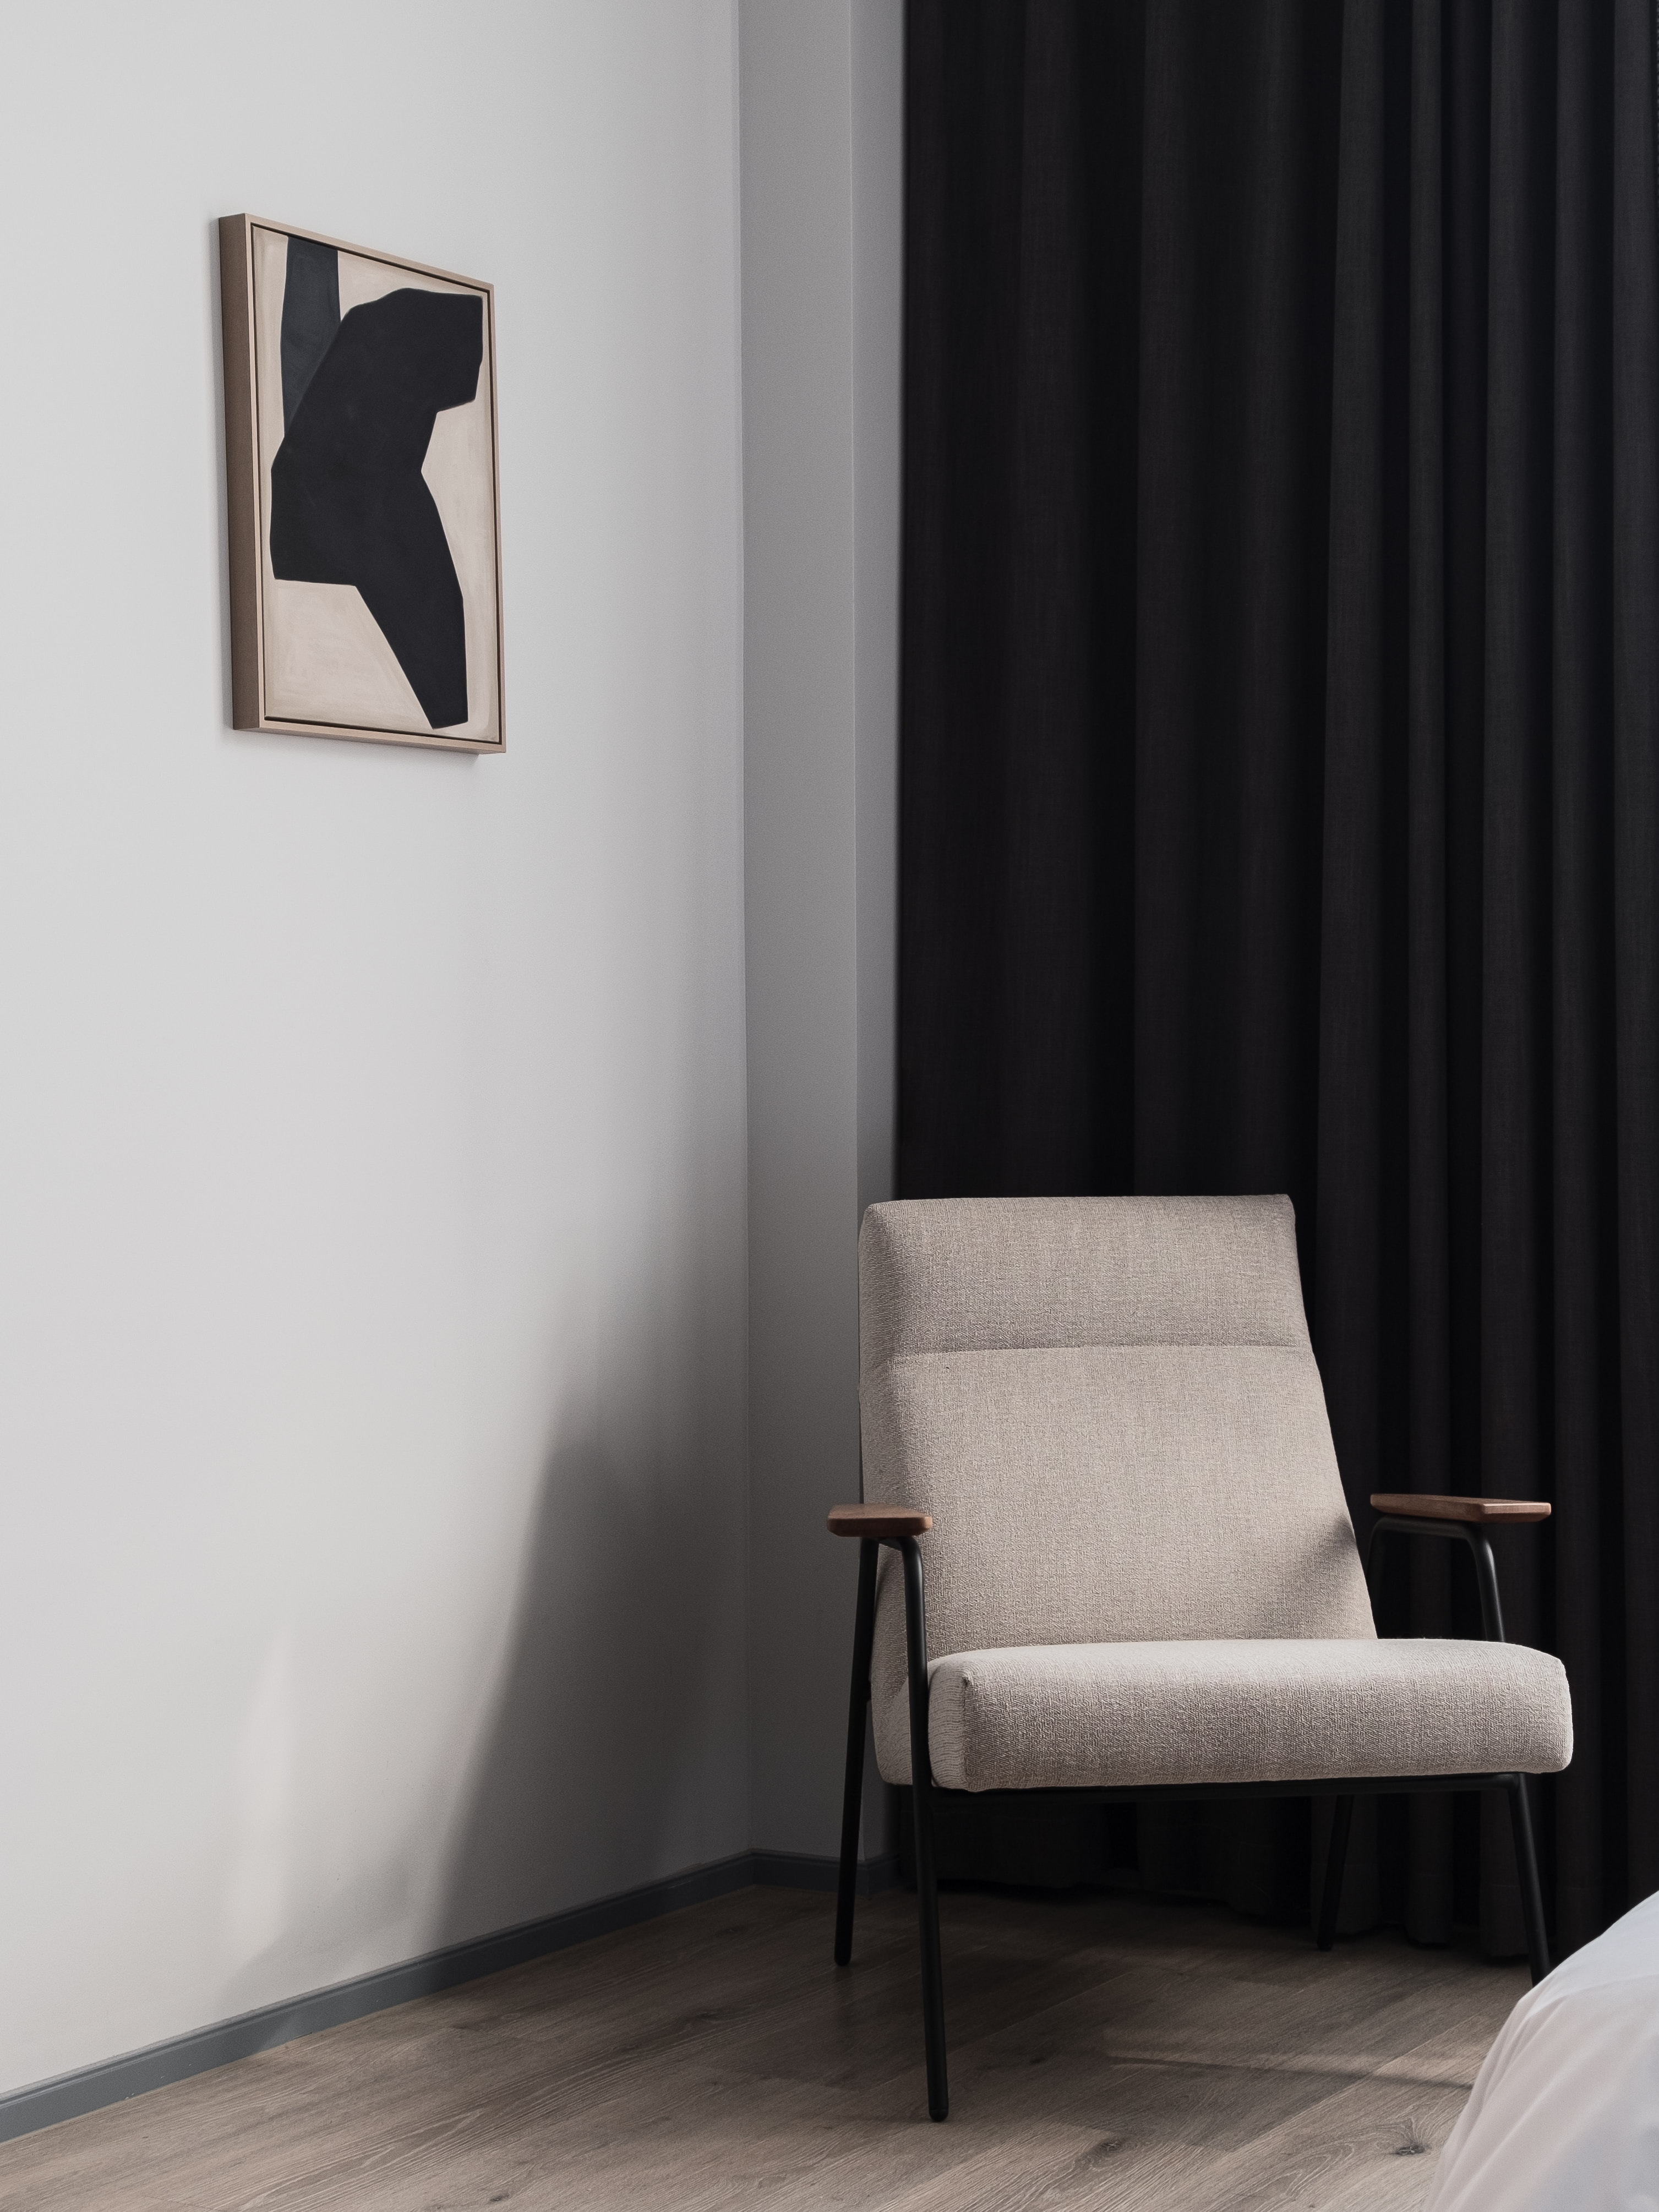Chair: (767, 1082, 1608, 2130)
Painting: (202, 195, 533, 787)
